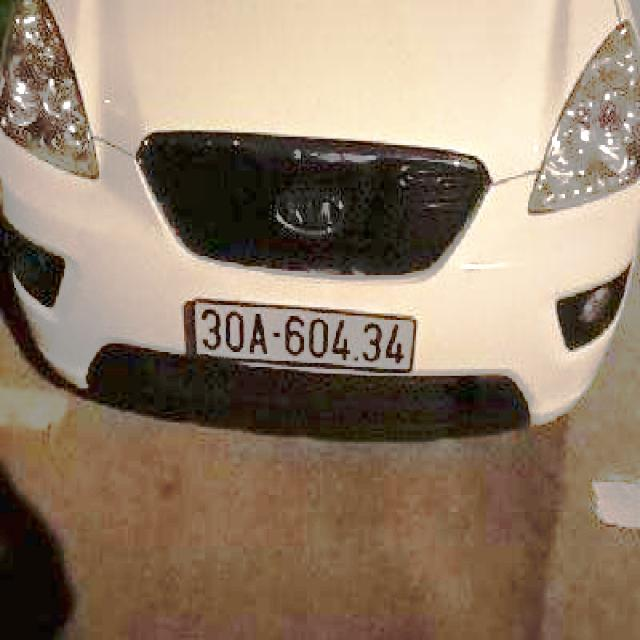license_plate: (197, 309, 416, 371)
